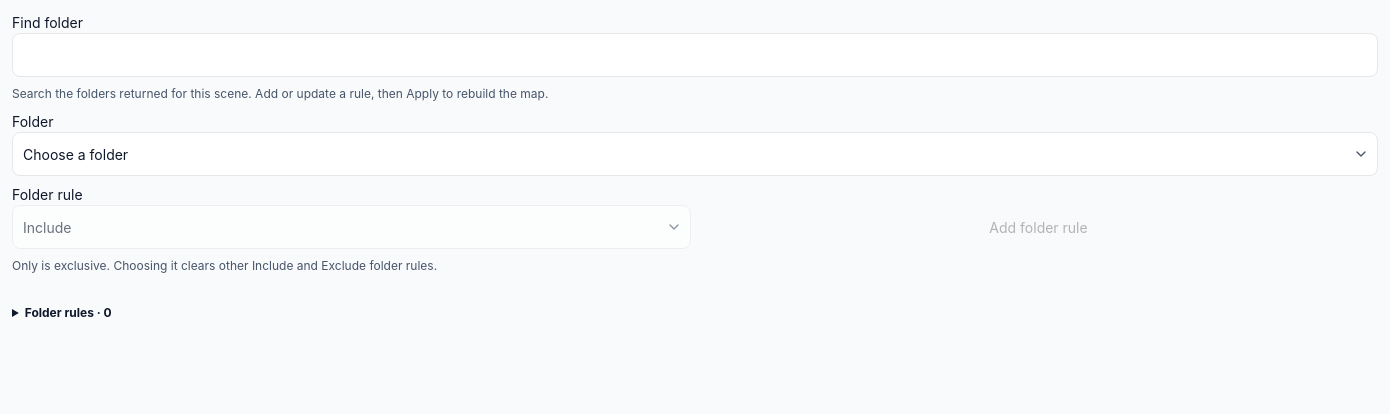
Test: WorkspaceGraphFolderFilters › updates, edits and removes rules while preserving all unrelated draft data
Select "Folder 001 · 2 visible candidates" in the dropdown labelled "Folder": (695, 154) [12,132,1378,176]
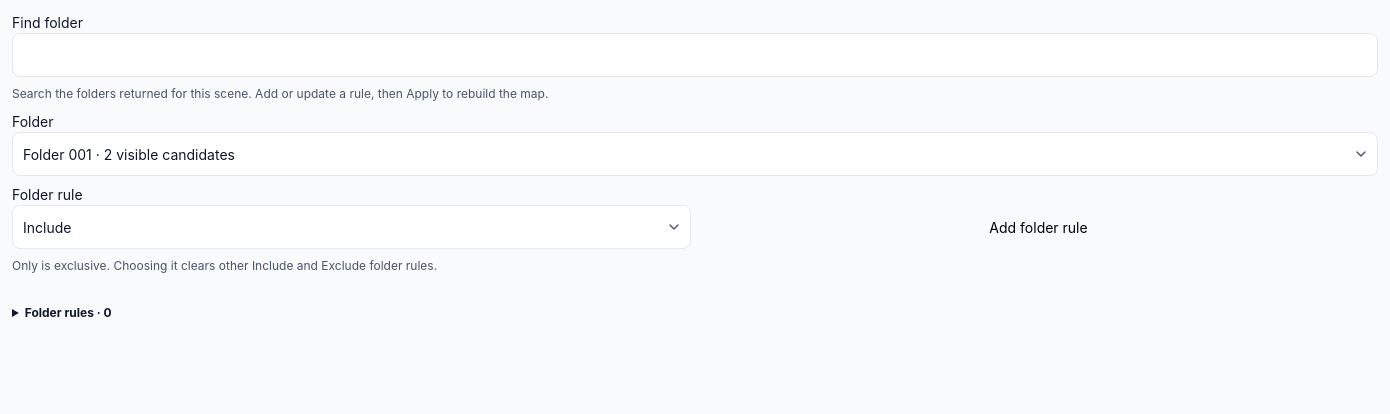
Select "Include" in the dropdown labelled "Folder rule": (352, 227) [12,205,691,249]
Click the button "Add folder rule": (1038, 227) [699,205,1378,249]
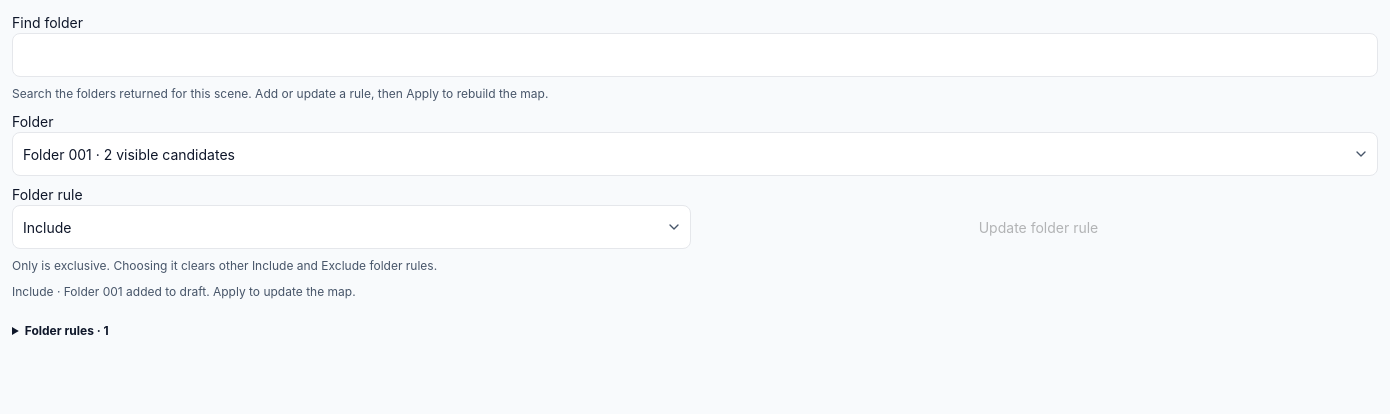
Select "Exclude" in the dropdown labelled "Folder rule": (352, 227) [12,205,691,249]
Click the button "Update folder rule": (1038, 227) [699,205,1378,249]
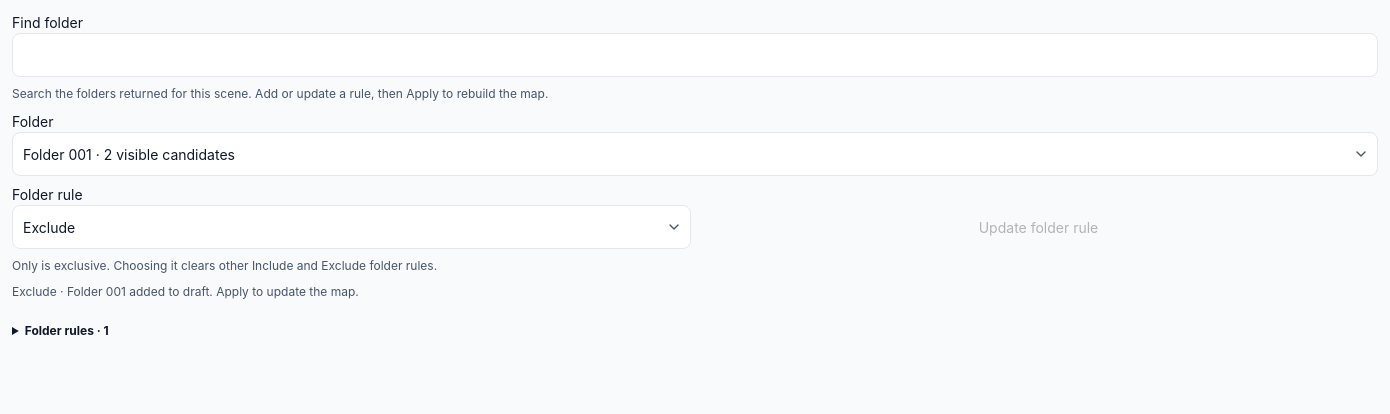
Click the heading "Folder rules · 1": (67, 330) [25,323,109,338]
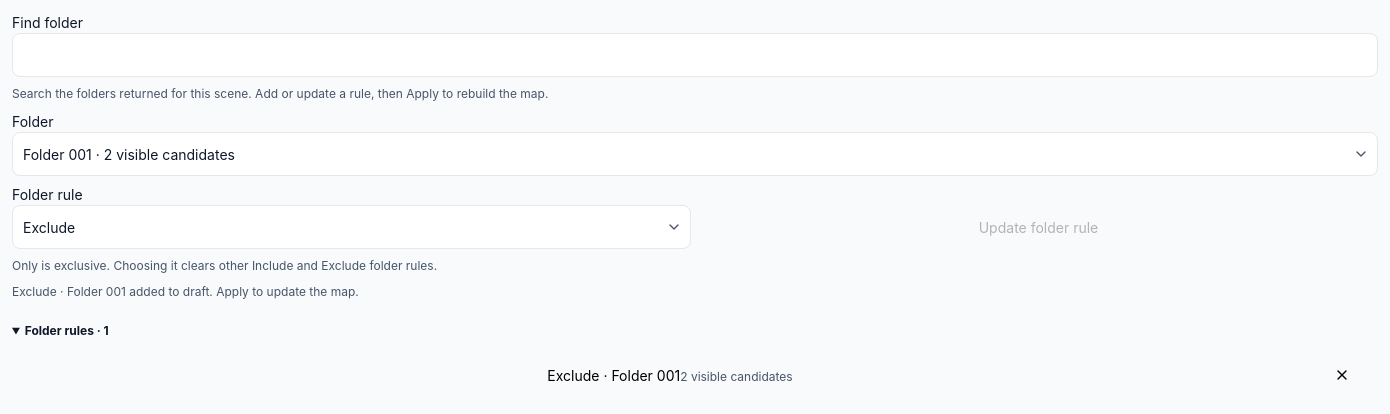
Click the button with aria-label "Edit folder rule: Folder 001": (670, 375) [12,353,1328,397]
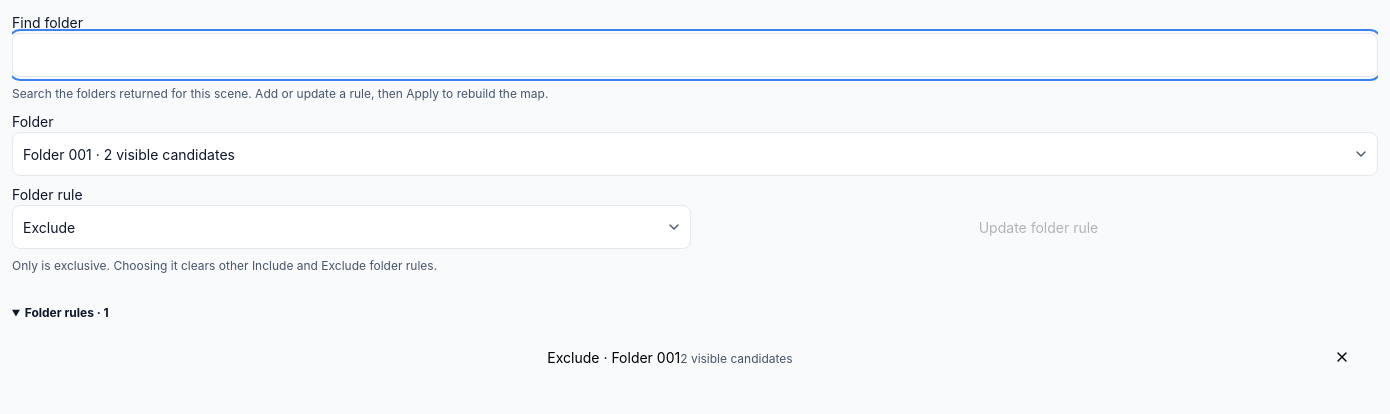
Click the button named "Remove folder rule: Folder 001": (1356, 357) [1334,335,1378,379]
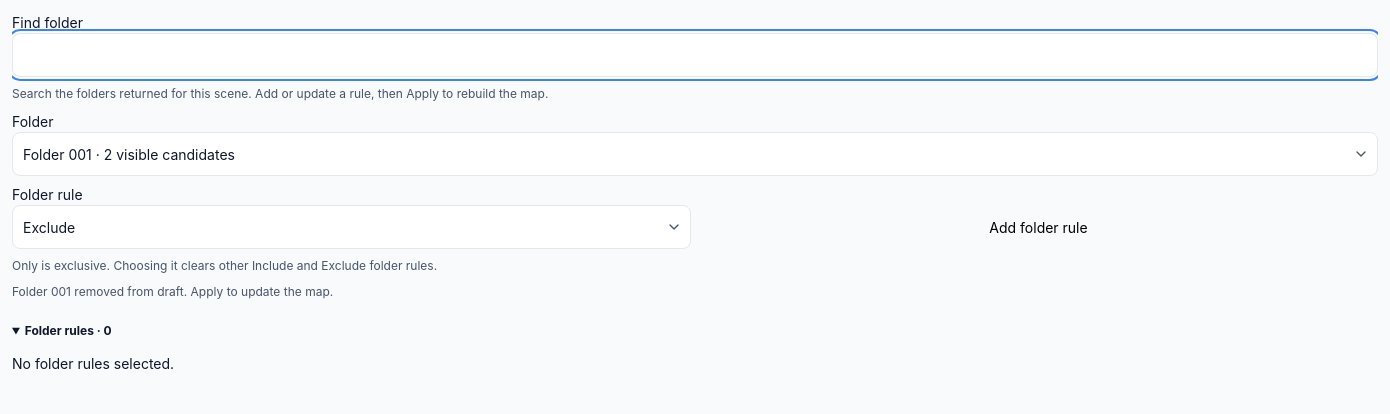
Result: the button "Add folder rule" is enabled at [699,205,1378,249]
